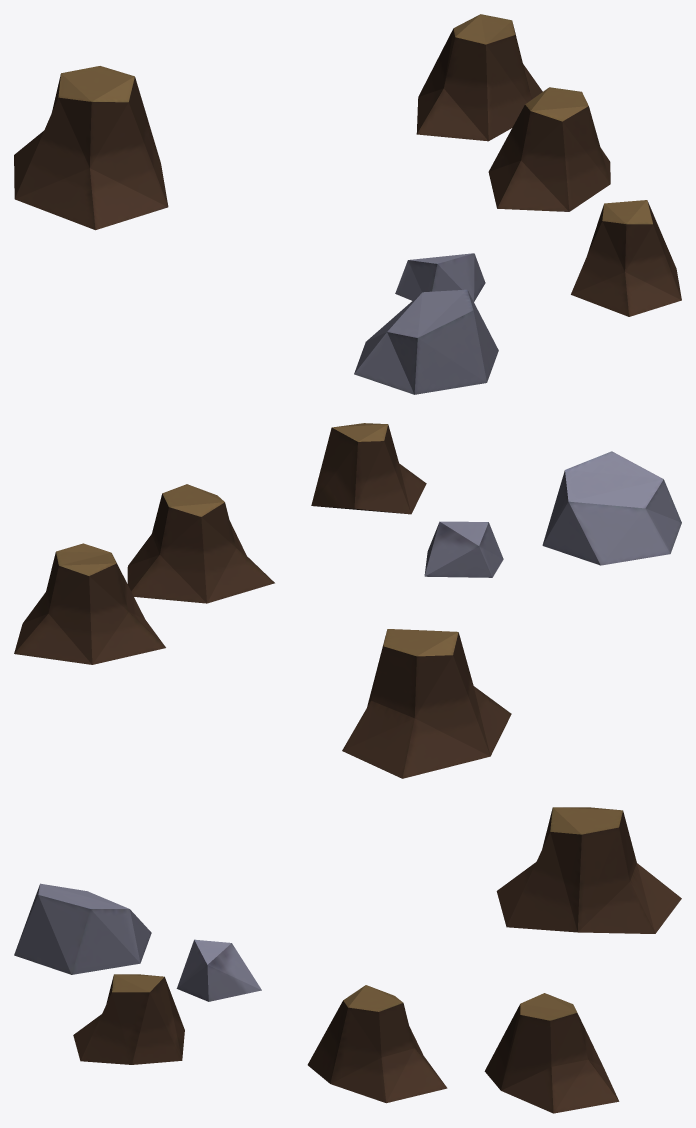
The model's file is waste_2_ruin_lod1.fbx.
3 views of the same model, one above another, from view 1: azimuth 30°, elevation 25°; view 2: azimuth 150°, elevation 25°; view 3: azimuth 270°, elevation 25° (orthographic). The views are drawn at different scales.
Visible parts, largest first — view 1: waste_2_ruin_LOD1; view 2: waste_2_ruin_LOD1; view 3: waste_2_ruin_LOD1.
Part boxes in pixels (<box>): waste_2_ruin_LOD1: <box>14,14,681,394</box>; waste_2_ruin_LOD1: <box>14,423,681,778</box>; waste_2_ruin_LOD1: <box>14,807,681,1113</box>.
Bounding box in the file's own units: 0.0244 × 0.00466 × 0.0293.
